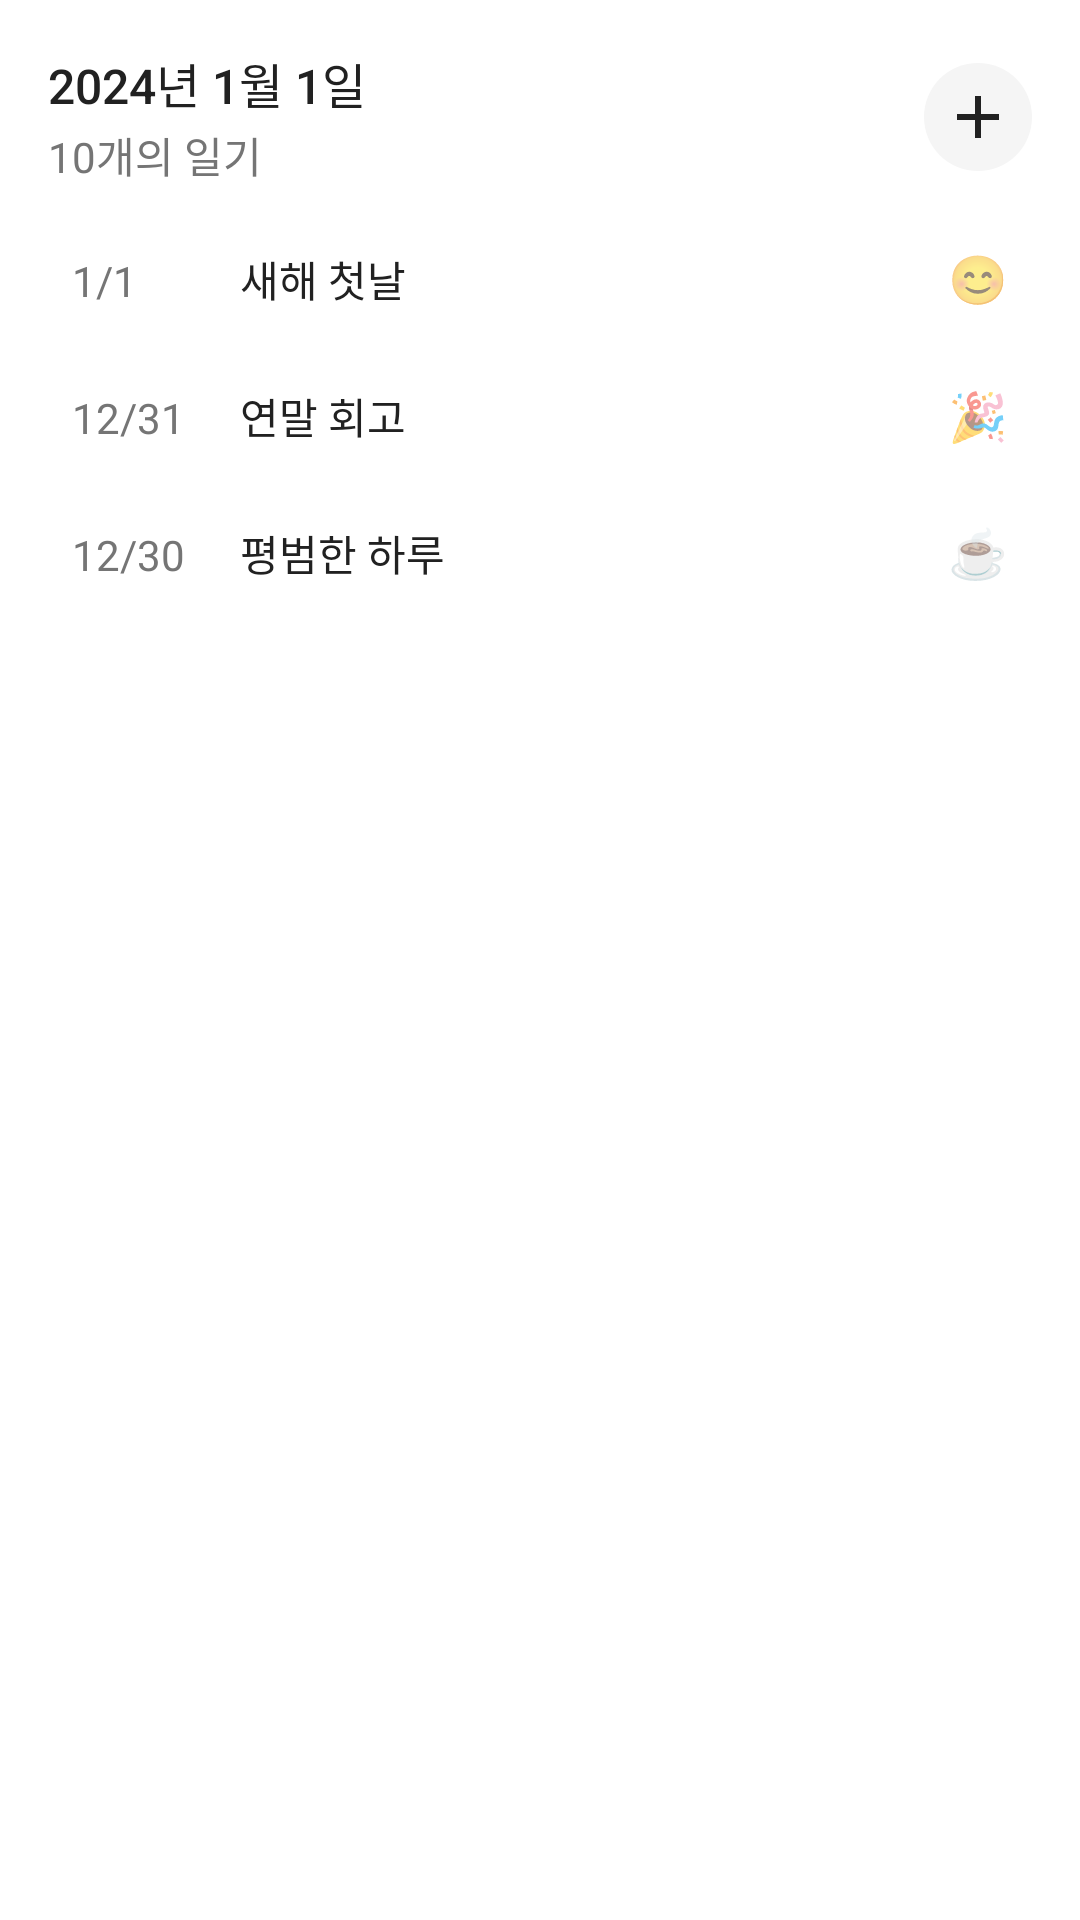

Icon bounding boxes for this 1080w x 1920h phone screenshot, format (x1, y1, x2, y2):
새 일기 작성: (924, 63, 1032, 171)
